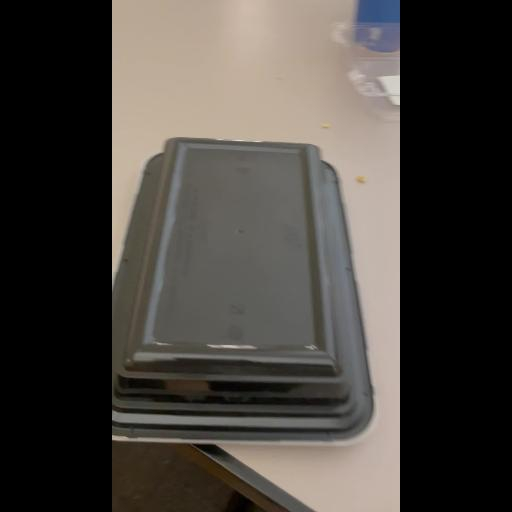rigid_plastic_container: (112, 131, 376, 447)
